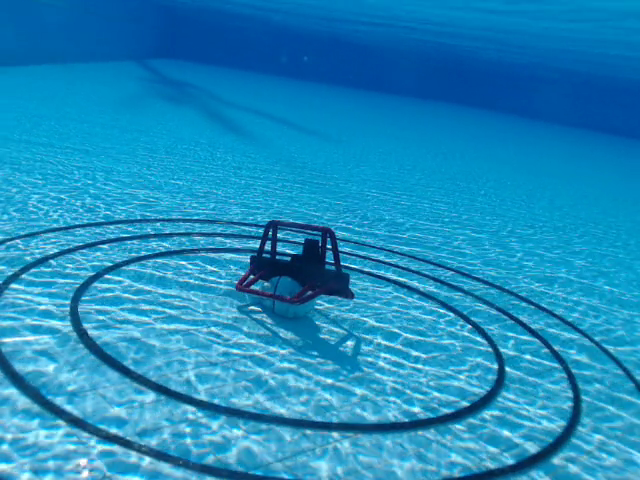submarine: (235, 218, 358, 306)
